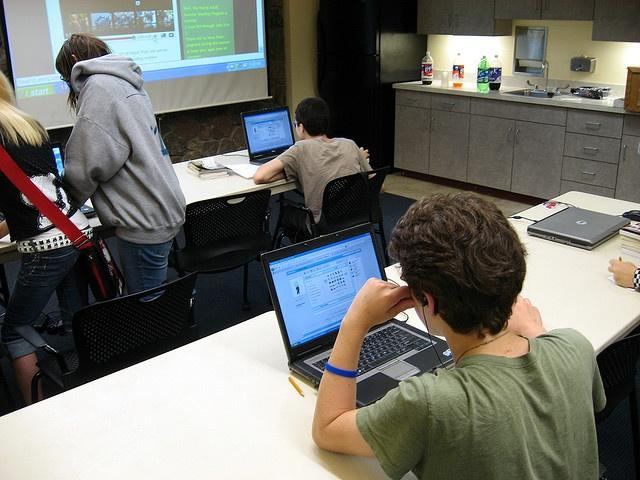Kursi: (13, 270, 198, 405), (166, 189, 274, 278), (273, 166, 390, 248)
Meja: (0, 308, 420, 479), (169, 142, 370, 212)
